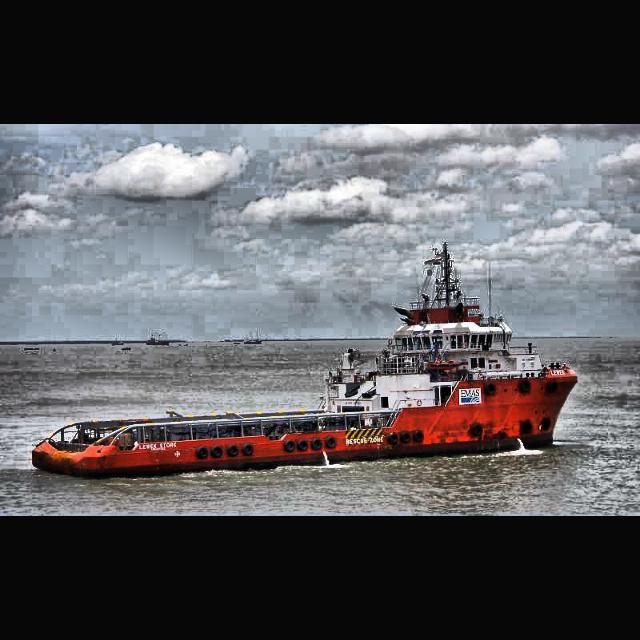anchor_handling_tug_supply: (31, 284, 580, 482)
